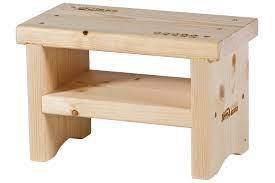chair: (12, 4, 254, 176)
